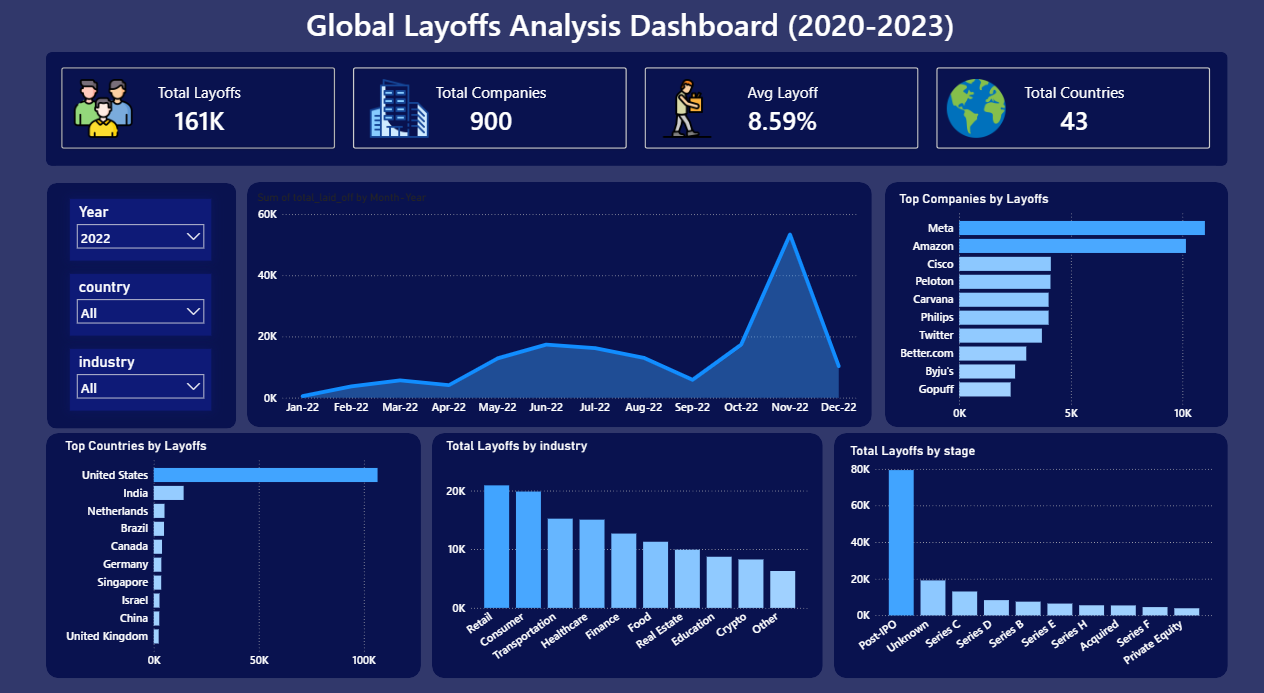

The dashboard page shown, as its layout file describes it:
{"tool":"powerbi","page":{"name":"Page 1","canvas":[2000,1100],"ordinal":0},"visuals":[{"type":"shape","box":[1400,287.5,542.5,387.5],"z":0},{"type":"shape","box":[392.5,287.5,987.5,387.5],"z":1000},{"type":"shape","box":[76.1,288.7,299.2,388.5],"z":2000},{"type":"slicer","fields":{"Values":["DateTable.Year"]},"box":[112.9,315,223.1,97.1],"z":3000},{"type":"slicer","fields":{"Values":["world_layoffs layoffs_staging2.industry"]},"box":[112.9,551.2,223.1,97.1],"z":4000},{"type":"slicer","fields":{"Values":["world_layoffs layoffs_staging2.country"]},"box":[112.9,433.1,223.1,97.1],"z":5000},{"type":"shape","box":[75,82.5,1867.5,180],"z":6000},{"type":"textbox","box":[375.3,0,1246.7,99.7],"z":7000},{"type":"cardVisual","fields":{"Data":["world_layoffs layoffs_staging2.Total Layoffs","world_layoffs layoffs_staging2.Total Companies","world_layoffs layoffs_staging2.Avg Layoff","world_layoffs layoffs_staging2.Total Countries"]},"box":[75,82.5,1867.5,177.5],"z":8000},{"type":"areaChart","fields":{"Y":["Sum(world_layoffs layoffs_staging2.total_laid_off)"],"Category":["DateTable.Month-Year"]},"box":[402.5,302.5,960,363.8],"z":9000},{"type":"barChart","title":"Top Companies by Layoffs","fields":{"Category":["world_layoffs layoffs_staging2.company"],"Y":["Sum(world_layoffs layoffs_staging2.total_laid_off)"]},"box":[1417.5,302.5,542.5,372.5],"z":10000},{"type":"shape","box":[1320,685,622.5,387.5],"z":11000},{"type":"shape","box":[685,685,617.5,387.5],"z":12000},{"type":"shape","box":[75,685,592.5,387.5],"z":13000},{"type":"barChart","title":"Top Countries by Layoffs","fields":{"Y":["Sum(world_layoffs layoffs_staging2.total_laid_off)"],"Category":["world_layoffs layoffs_staging2.country"]},"box":[100,692.5,567.5,372.5],"z":14000},{"type":"columnChart","fields":{"Category":["world_layoffs layoffs_staging2.industry"],"Y":["world_layoffs layoffs_staging2.Total Layoffs"]},"box":[702.5,692.5,582.5,372.5],"z":15000},{"type":"columnChart","fields":{"Y":["world_layoffs layoffs_staging2.Total Layoffs"],"Category":["world_layoffs layoffs_staging2.stage"]},"box":[1340,700,582.5,372.5],"z":16000},{"type":"image","box":[112.5,125,105,92.5],"z":17000},{"type":"image","box":[1492.5,125,105,92.5],"z":18000},{"type":"image","box":[1035,125,105,92.5],"z":19000},{"type":"image","box":[580,125,105,92.5],"z":20000}]}

Visuals, with their boxes in screenshot pixels (x1, y1, x2, y2), scaled from the page's 2000x1100 canvas onto the 1264x693 screenshot:
shape: box=[885, 181, 1228, 425]
shape: box=[248, 181, 872, 425]
shape: box=[48, 182, 237, 427]
slicer - DateTable.Year: box=[71, 198, 212, 260]
slicer - world_layoffs layoffs_staging2.industry: box=[71, 347, 212, 408]
slicer - world_layoffs layoffs_staging2.country: box=[71, 273, 212, 334]
shape: box=[47, 52, 1228, 165]
textbox: box=[237, 0, 1025, 63]
cardVisual - world_layoffs layoffs_staging2.Total Layoffs x world_layoffs layoffs_staging2.Total Companies: box=[47, 52, 1228, 164]
areaChart - Sum(world_layoffs layoffs_staging2.total_laid_off) x DateTable.Month-Year: box=[254, 191, 861, 420]
"Top Companies by Layoffs" barChart: box=[896, 191, 1239, 425]
shape: box=[834, 432, 1228, 676]
shape: box=[433, 432, 823, 676]
shape: box=[47, 432, 422, 676]
"Top Countries by Layoffs" barChart: box=[63, 436, 422, 671]
columnChart - world_layoffs layoffs_staging2.industry x world_layoffs layoffs_staging2.Total Layoffs: box=[444, 436, 812, 671]
columnChart - world_layoffs layoffs_staging2.Total Layoffs x world_layoffs layoffs_staging2.stage: box=[847, 441, 1215, 676]
image: box=[71, 79, 137, 137]
image: box=[943, 79, 1010, 137]
image: box=[654, 79, 720, 137]
image: box=[367, 79, 433, 137]
